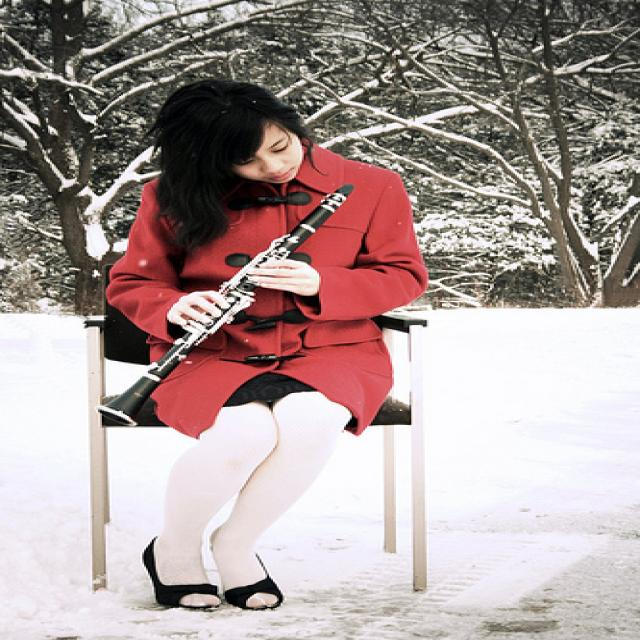clarinet: (94, 183, 353, 430)
